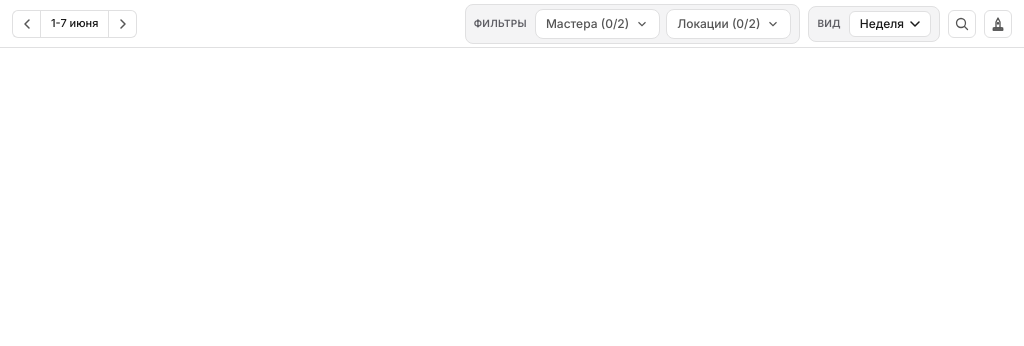
it: Topbar — Cell Height Zoom Control › renders 3 options in the popup
The image size is (1024, 346).
Click the button with test id "zoom-button" at x=962, y=24, box [948, 10, 976, 38]
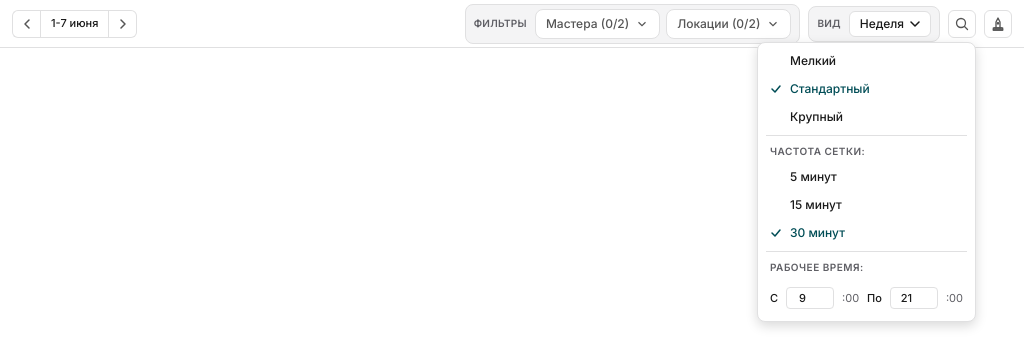
Now the menu item with test id "zoom-option-40" is shown, box [758, 46, 975, 74]
Now the menu item with test id "zoom-option-50" is shown, box [758, 74, 975, 102]
Now the menu item with test id "zoom-option-60" is shown, box [758, 102, 975, 130]
